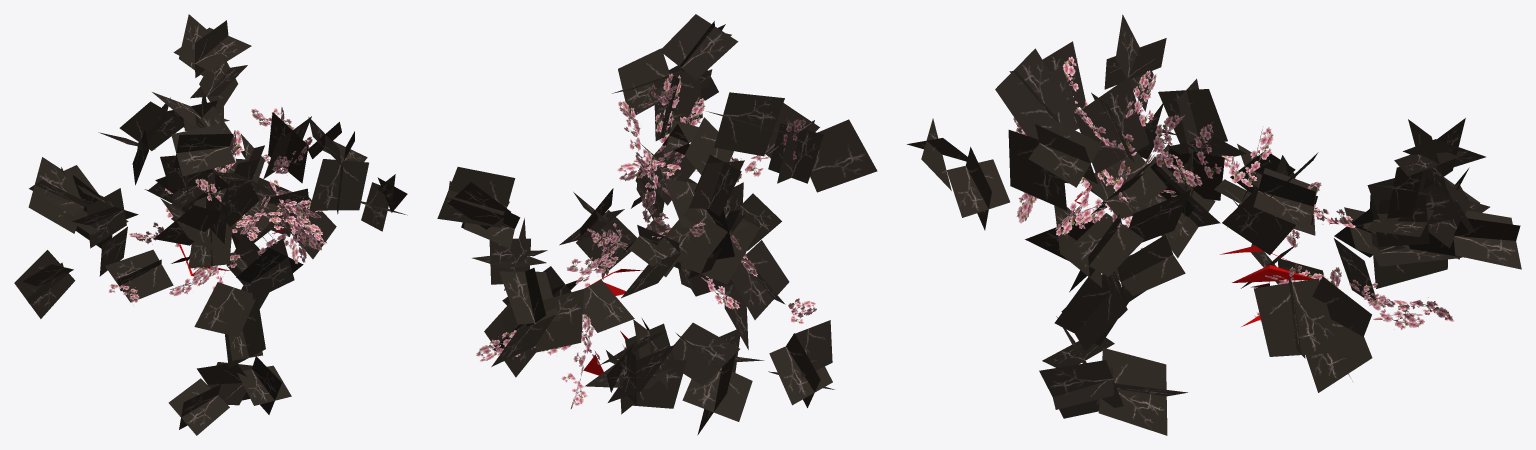
Rendered from sakura1 lod4.FBX.
The picture shows the model from 3 angles, left to right: view 1: azimuth 30°, elevation 25°; view 2: azimuth 150°, elevation 25°; view 3: azimuth 270°, elevation 25°; orthographic projection. The views are drawn at different scales.
Parts seen in each view (by area): view 1: sakura1_LOD4; view 2: sakura1_LOD4; view 3: sakura1_LOD4.
Boxes of the visible parts, x1,y1,x2,y2 form: sakura1_LOD4: (14,14,407,435); sakura1_LOD4: (437,14,877,435); sakura1_LOD4: (907,14,1521,435).
Size of the model in its own units: 87472 by 93914 by 127687.
